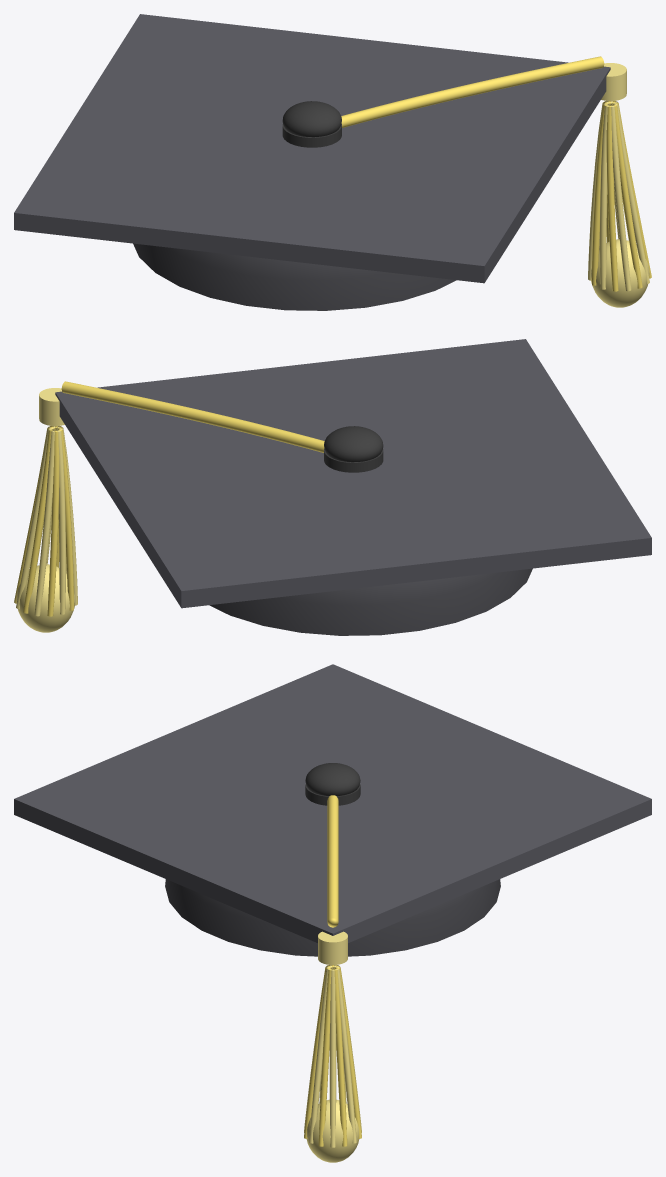
File: graduation_cap.glb
3 renders of one model, top to bottom at view 1: azimuth 30°, elevation 25°; view 2: azimuth 150°, elevation 25°; view 3: azimuth 270°, elevation 25°, orthographic. The views are drawn at different scales.
Bounding box in the file's own units: 0.2704 × 0.112 × 0.2546.
